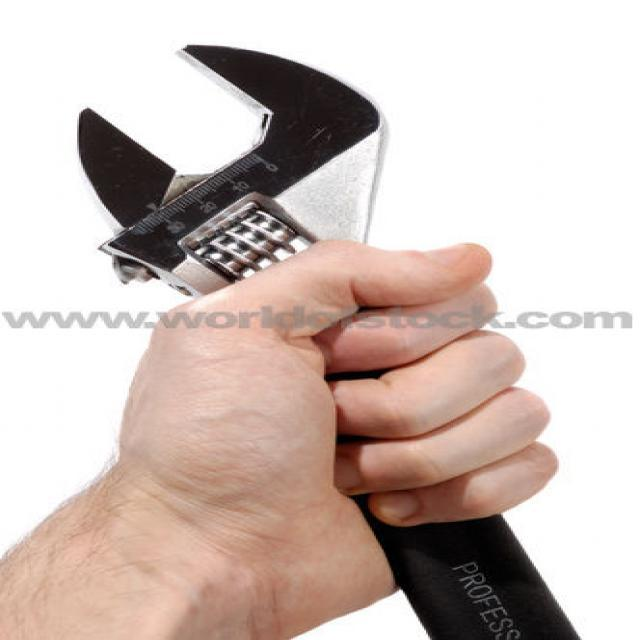wrench: (57, 38, 572, 632)
